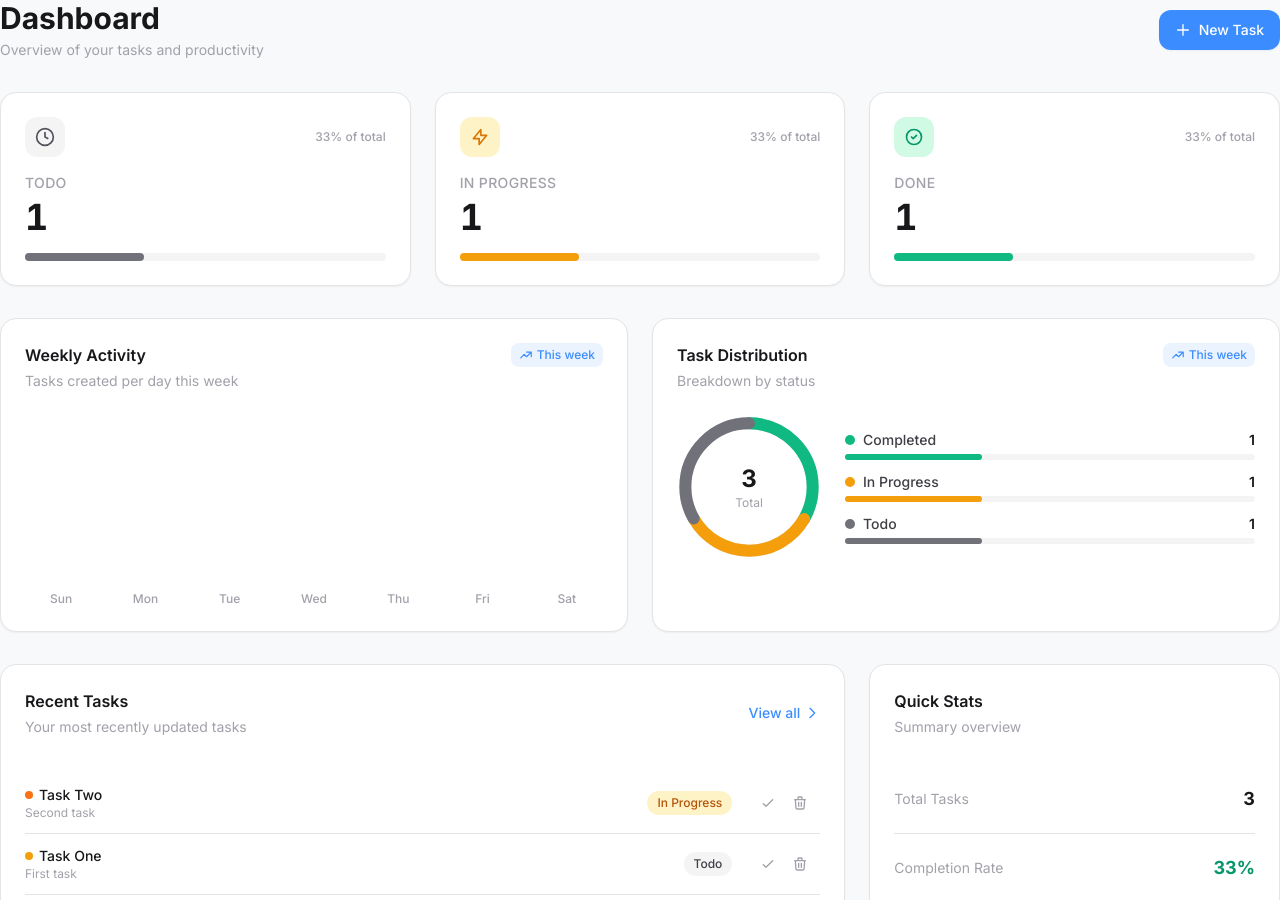
Scenario: Dashboard Component › opens delete confirmation dialog when delete button is clicked
Click the button titled "Delete" in the row of "Task Two" at [800, 803], box [786,789,814,817]
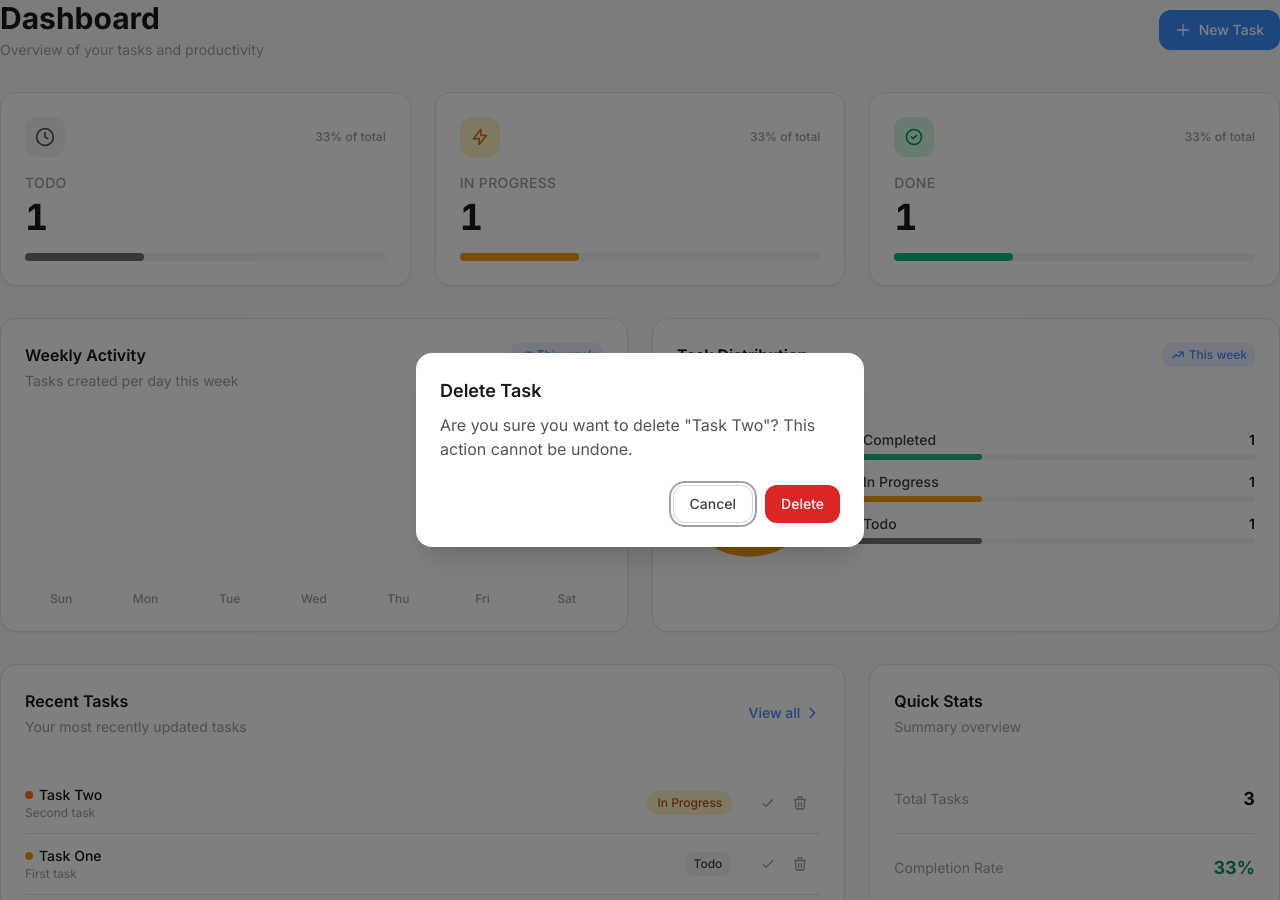
Now the dialog is shown
Now the dialog shows "Delete Task", box [440,380,541,401]
Now the dialog shows "Are you sure you want to delete", box [440,415,815,459]
